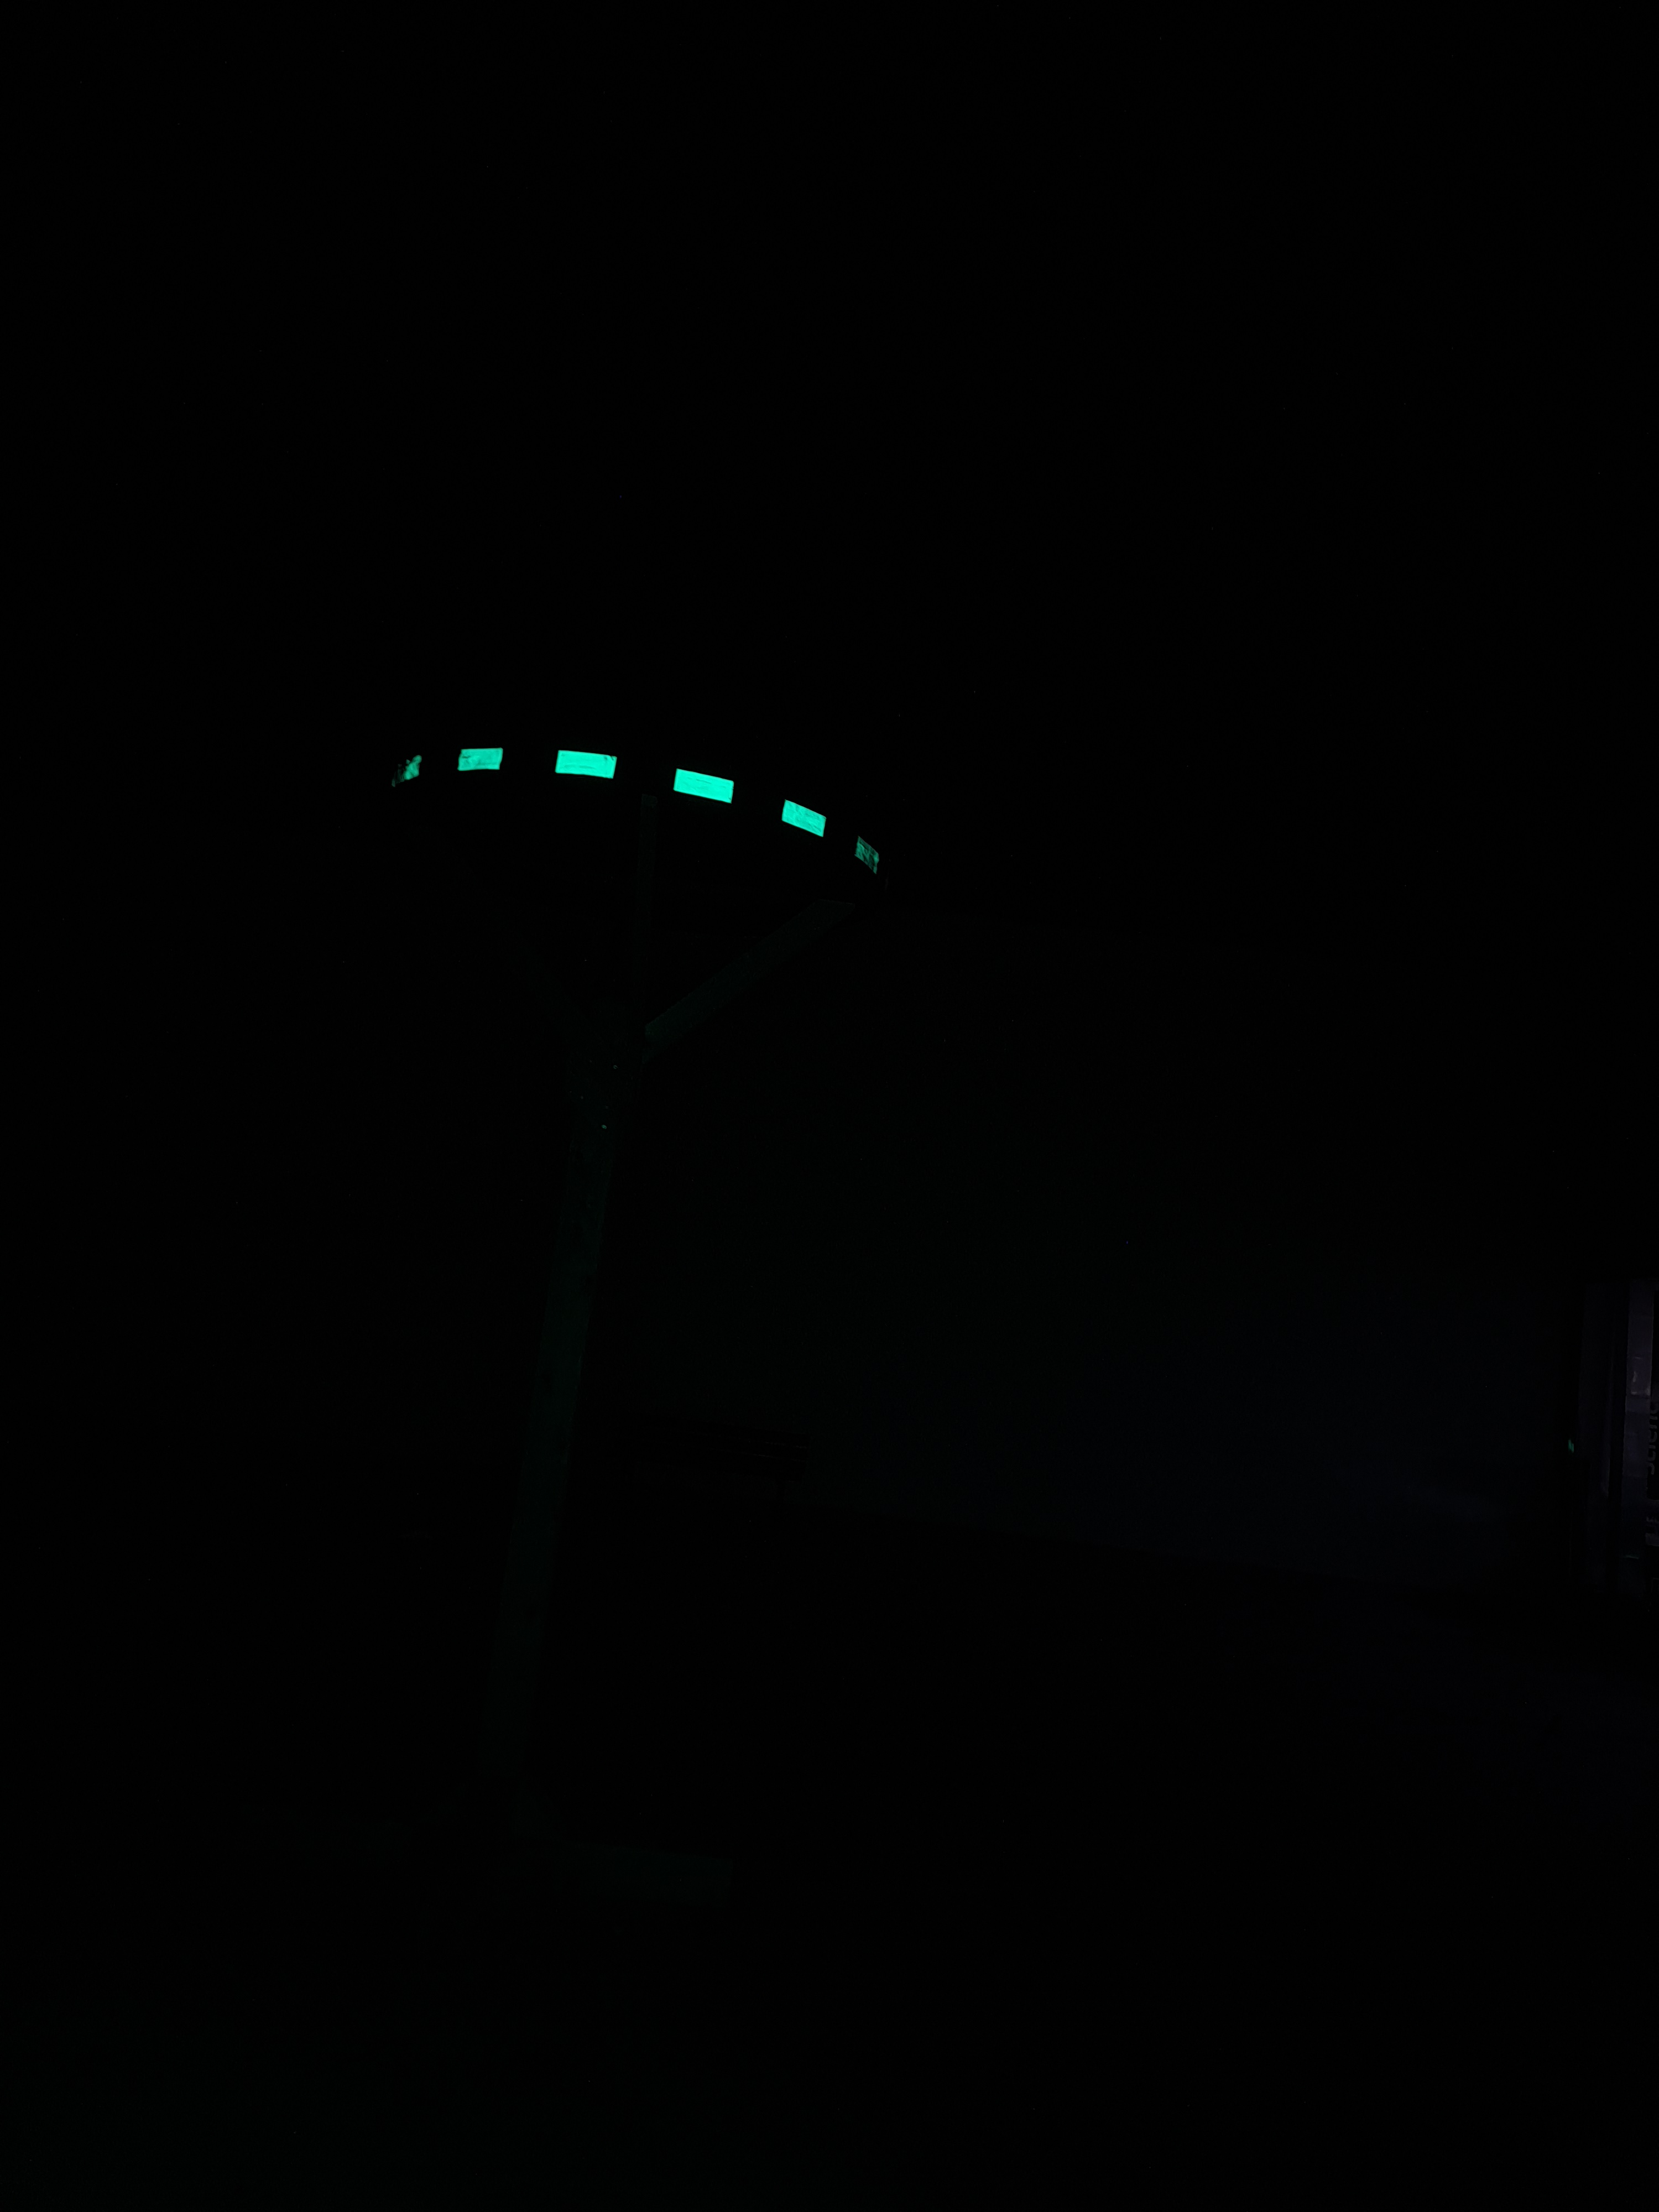hoop: (380, 737, 882, 887)
